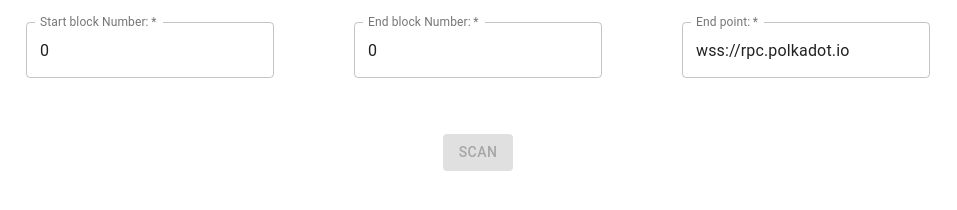
Test: polkadot scanner form › validation of start block number
// Numberic check
Replace the text in the field next to "Start block Number:" with "a": (150, 50) [26,22,274,78]
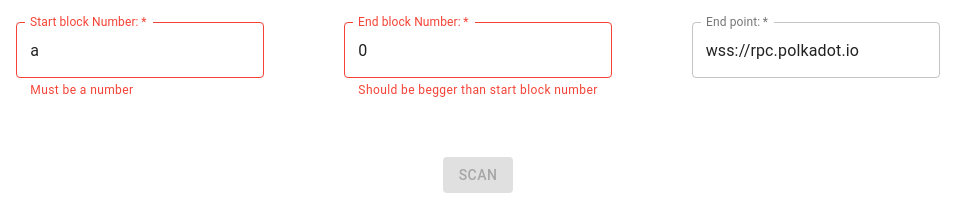
Check: the text "Must be a number" is shown, box [30,83,134,97]
Replace the text in the field next to "Start block Number:" with "1": (140, 50) [16,22,264,78]
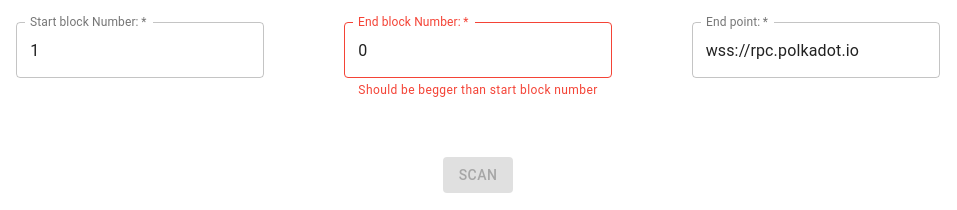
Check: the field next to "End block Number:" holds "0", box [344,22,612,78]
Check: the text "Should be begger than start block number" is shown, box [358,81,598,101]
// positive check
Replace the text in the field next to "Start block Number:" with "-2": (140, 50) [16,22,264,78]
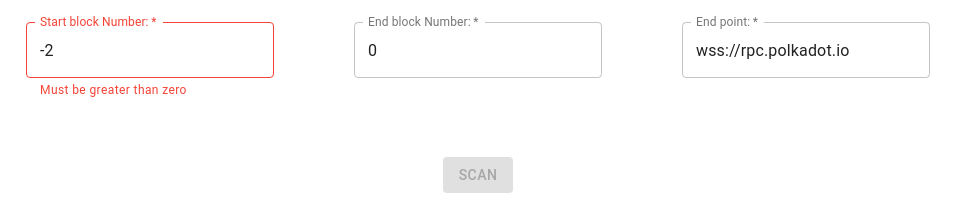
Check: the text "Must be greater than zero" is shown, box [40,83,187,97]
